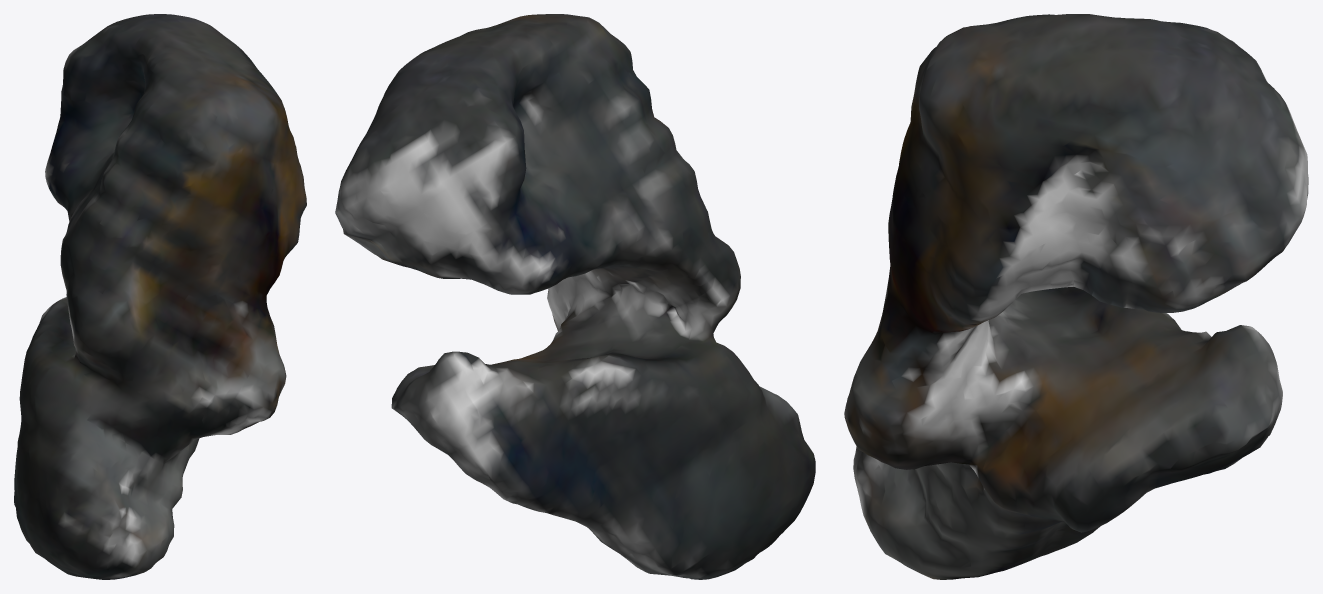
The model's file is leather.glb.
3 renders of one model, left to right at view 1: azimuth 30°, elevation 25°; view 2: azimuth 150°, elevation 25°; view 3: azimuth 270°, elevation 25°, orthographic. The views are drawn at different scales.
Size of the model in its own units: 0.6449 by 1 by 0.6738.
